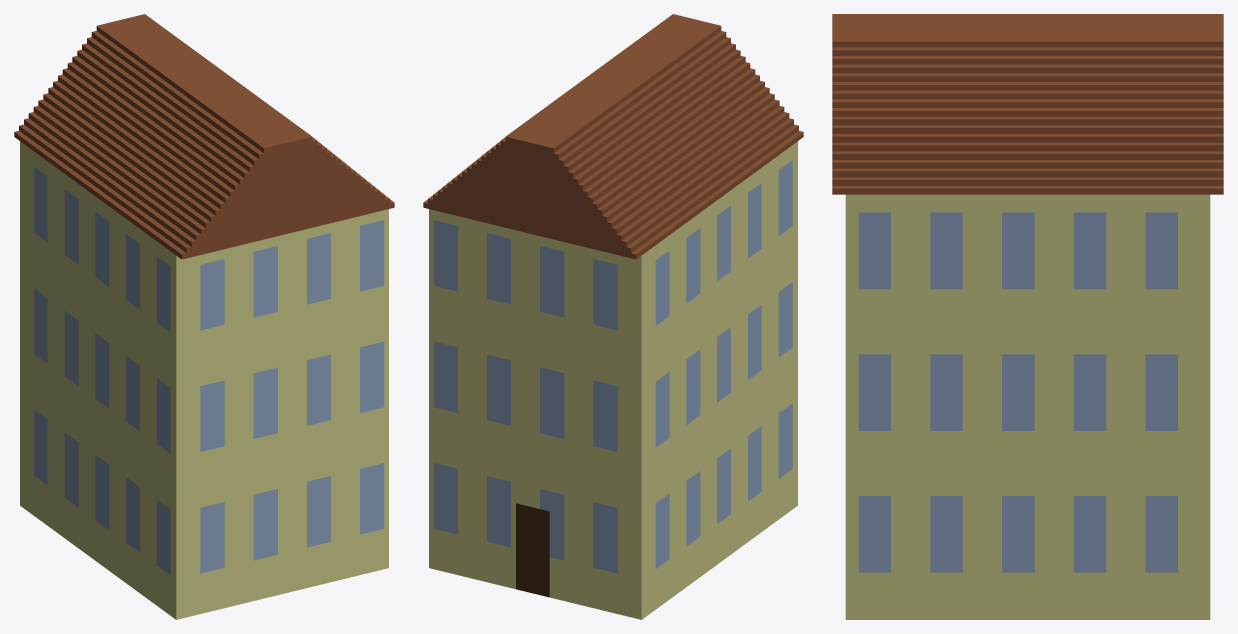
File: house.obj
The picture shows the model from 3 angles, left to right: view 1: azimuth 30°, elevation 25°; view 2: azimuth 150°, elevation 25°; view 3: azimuth 270°, elevation 25°; orthographic projection. The views are drawn at different scales.
Size of the model in its own units: 4.4 by 9 by 6.
Materials: 1 (1 with a texture image).
